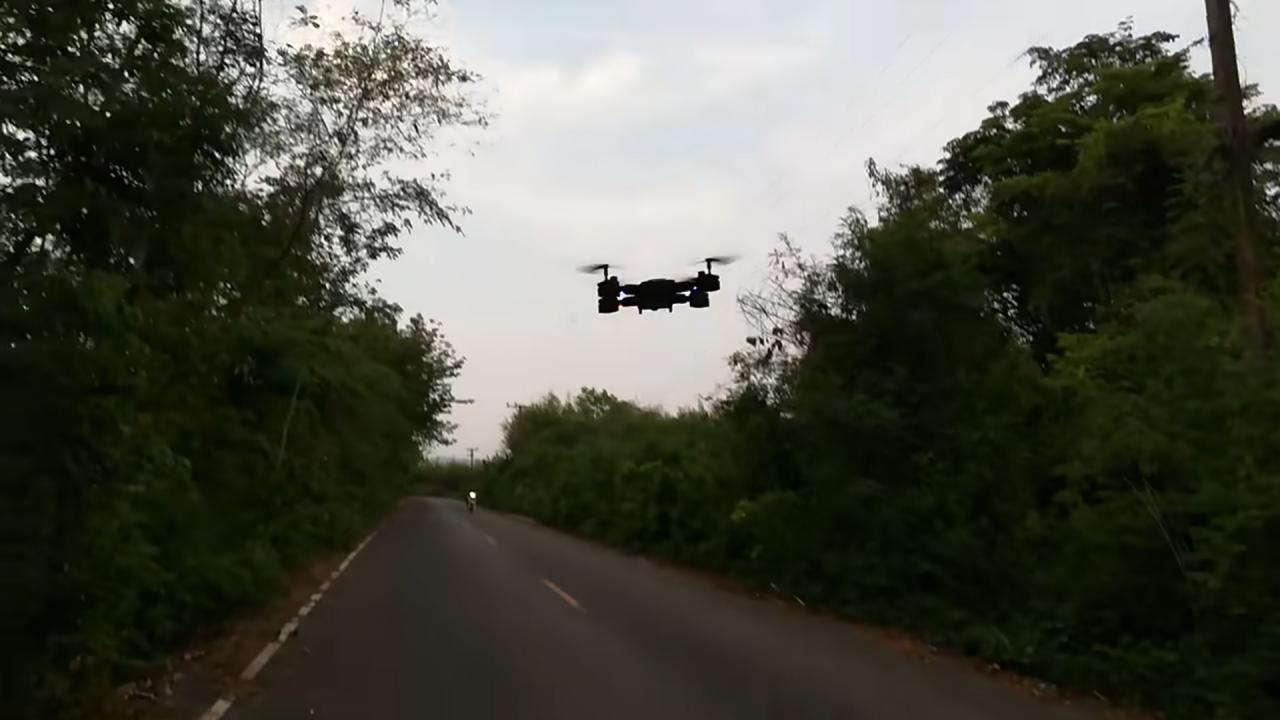Drone: (566, 241, 746, 332)
